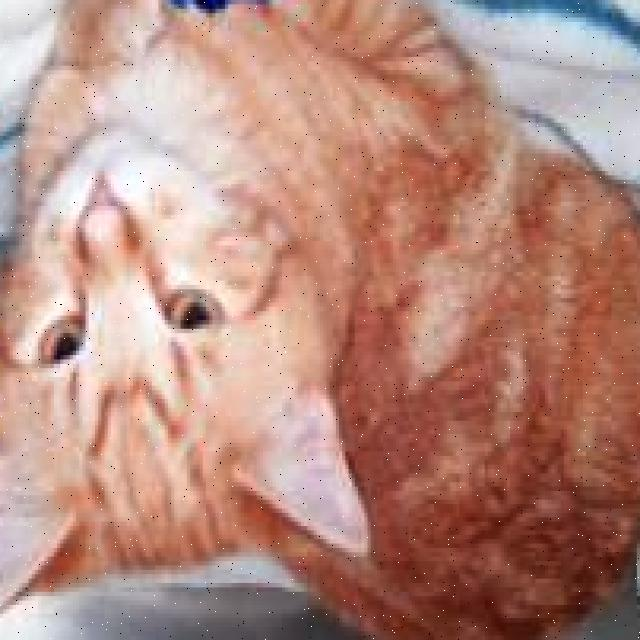Cat: (0, 92, 364, 631)
